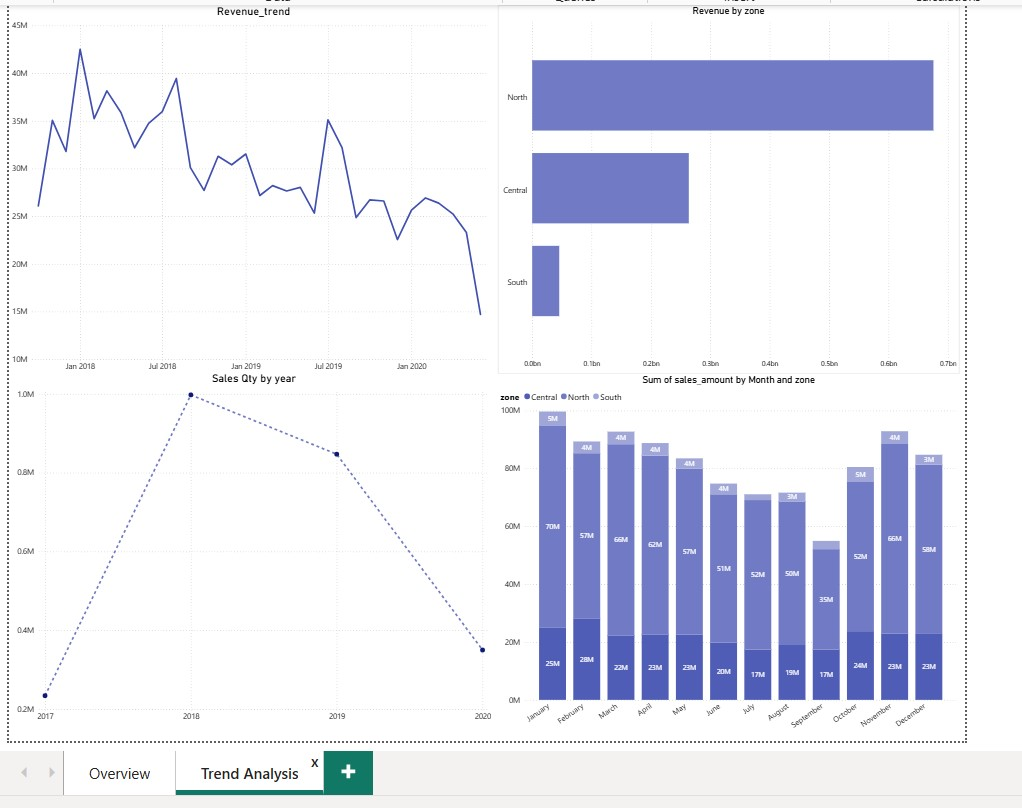

What the dashboard file says about the page in this screenshot:
{"tool":"powerbi","page":{"name":"Trend Analysis","canvas":[1690,1300],"ordinal":1},"visuals":[{"type":"lineChart","title":"Revenue_trend","fields":{"Y":["BsaeMeasures.Revenue"],"Category":["date.cy_date"]},"box":[0,0,864,658],"z":0},{"type":"lineChart","title":"Sales Qty by year","fields":{"Y":["BsaeMeasures.sales Qty"],"Category":["date.year"]},"box":[8.8,649.1,847.8,627],"z":1000},{"type":"barChart","fields":{"Category":["markets.zone"],"Y":["BsaeMeasures.Revenue"]},"box":[864.1,0,815.4,651.3],"z":2000},{"type":"columnChart","fields":{"Y":["Sum(transactions.sales_amount)"],"Category":["date.cy_date.Variation.Date Hierarchy.Month"],"Series":["markets.zone"]},"box":[864.1,651.3,815.4,648.7],"z":3000}]}

Visuals, with their boxes on the page's 1690x1300 design canvas (x1, y1, x2, y2). These are canvas units, not pixel positions in the 1022x808 screenshot, which may show the page scaled, cropped or inside an application window:
"Revenue_trend" lineChart: <box>0,0,864,658</box>
"Sales Qty by year" lineChart: <box>9,649,857,1276</box>
barChart - markets.zone x BsaeMeasures.Revenue: <box>864,0,1680,651</box>
columnChart - Sum(transactions.sales_amount) x date.cy_date.Variation.Date Hierarchy.Month: <box>864,651,1680,1300</box>
